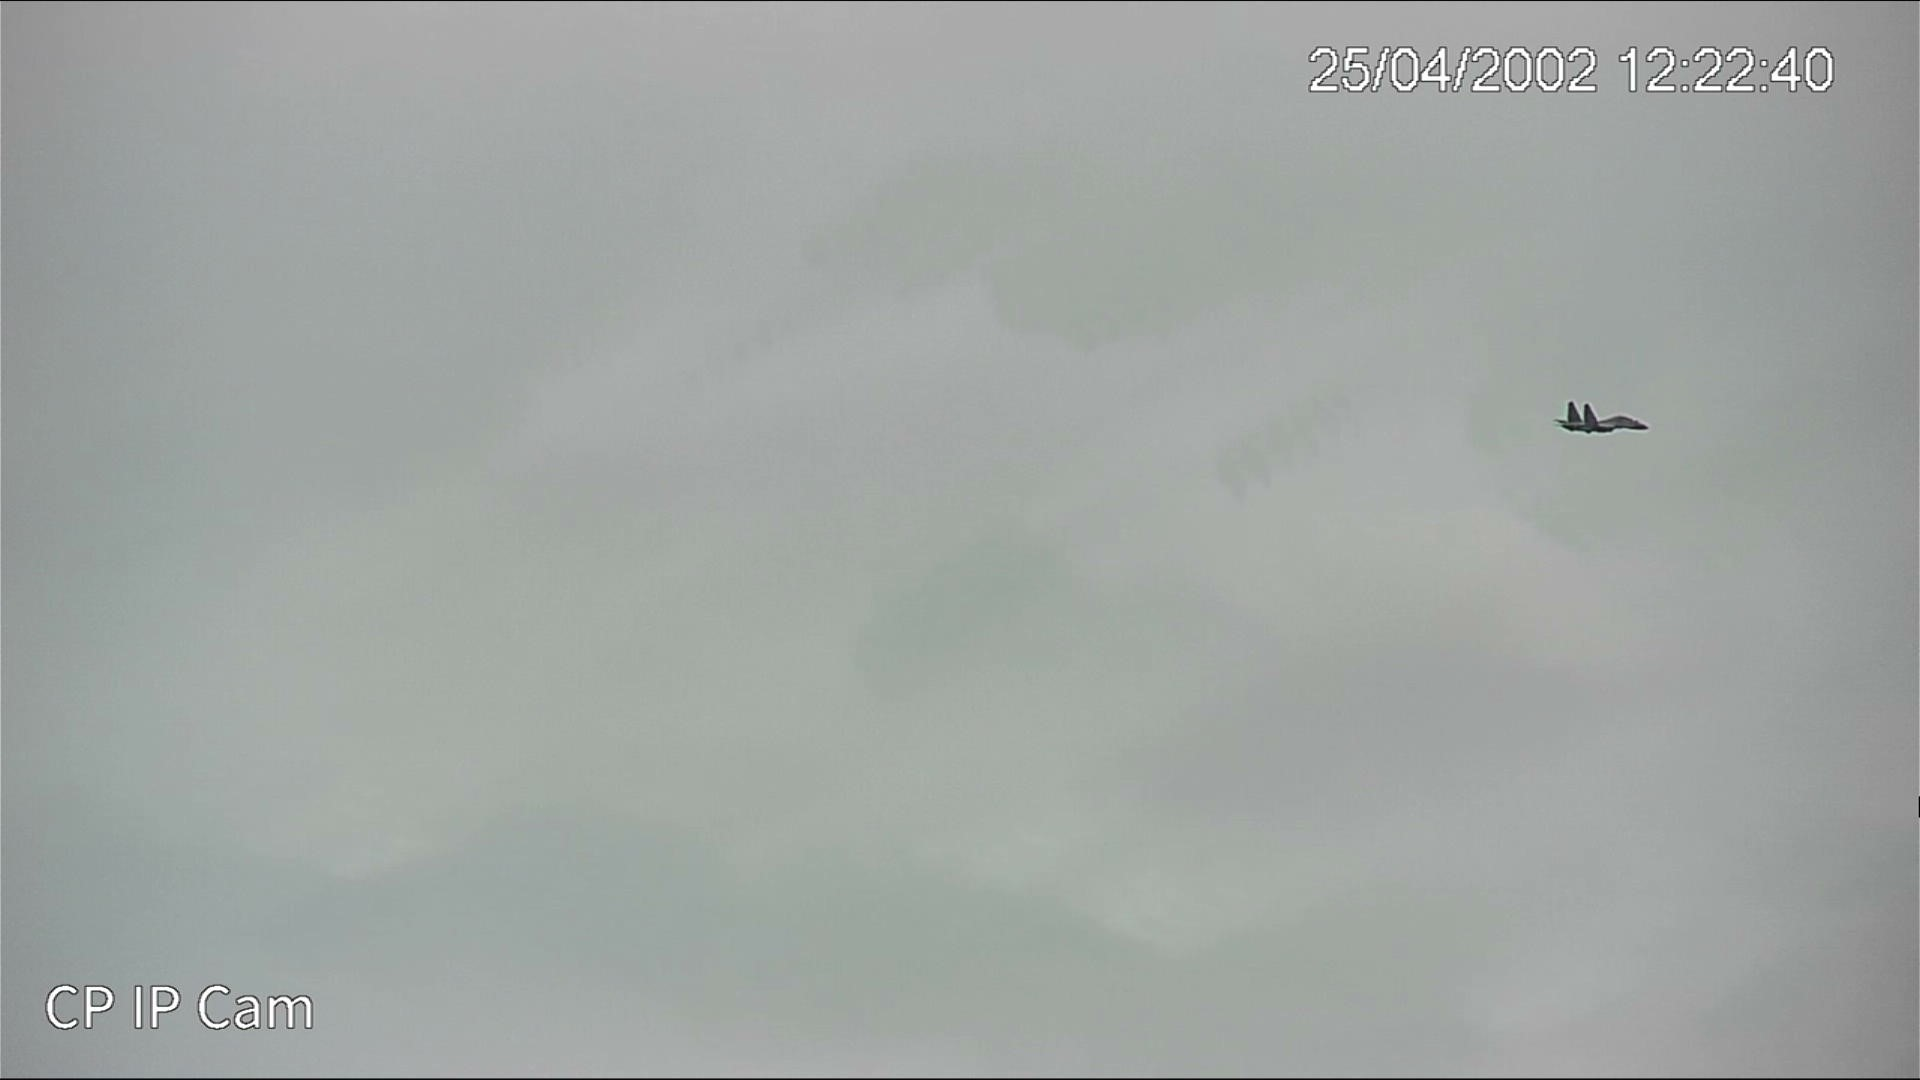SU_30: (1551, 401, 1655, 443)
